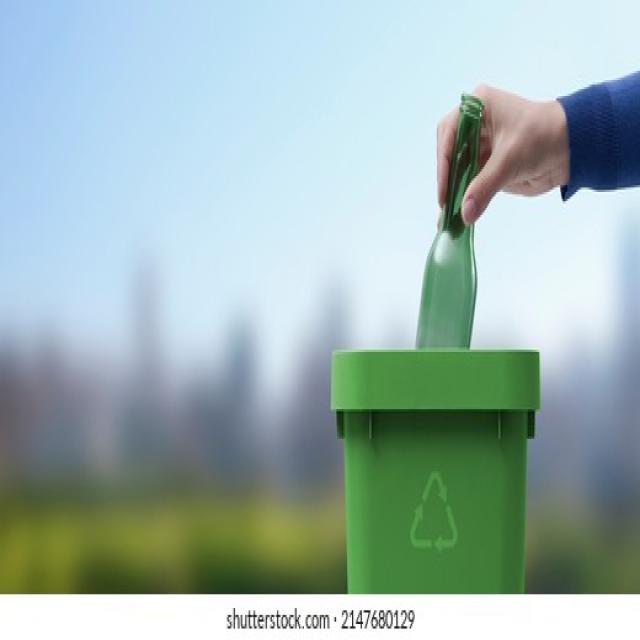glass: (415, 101, 485, 354)
